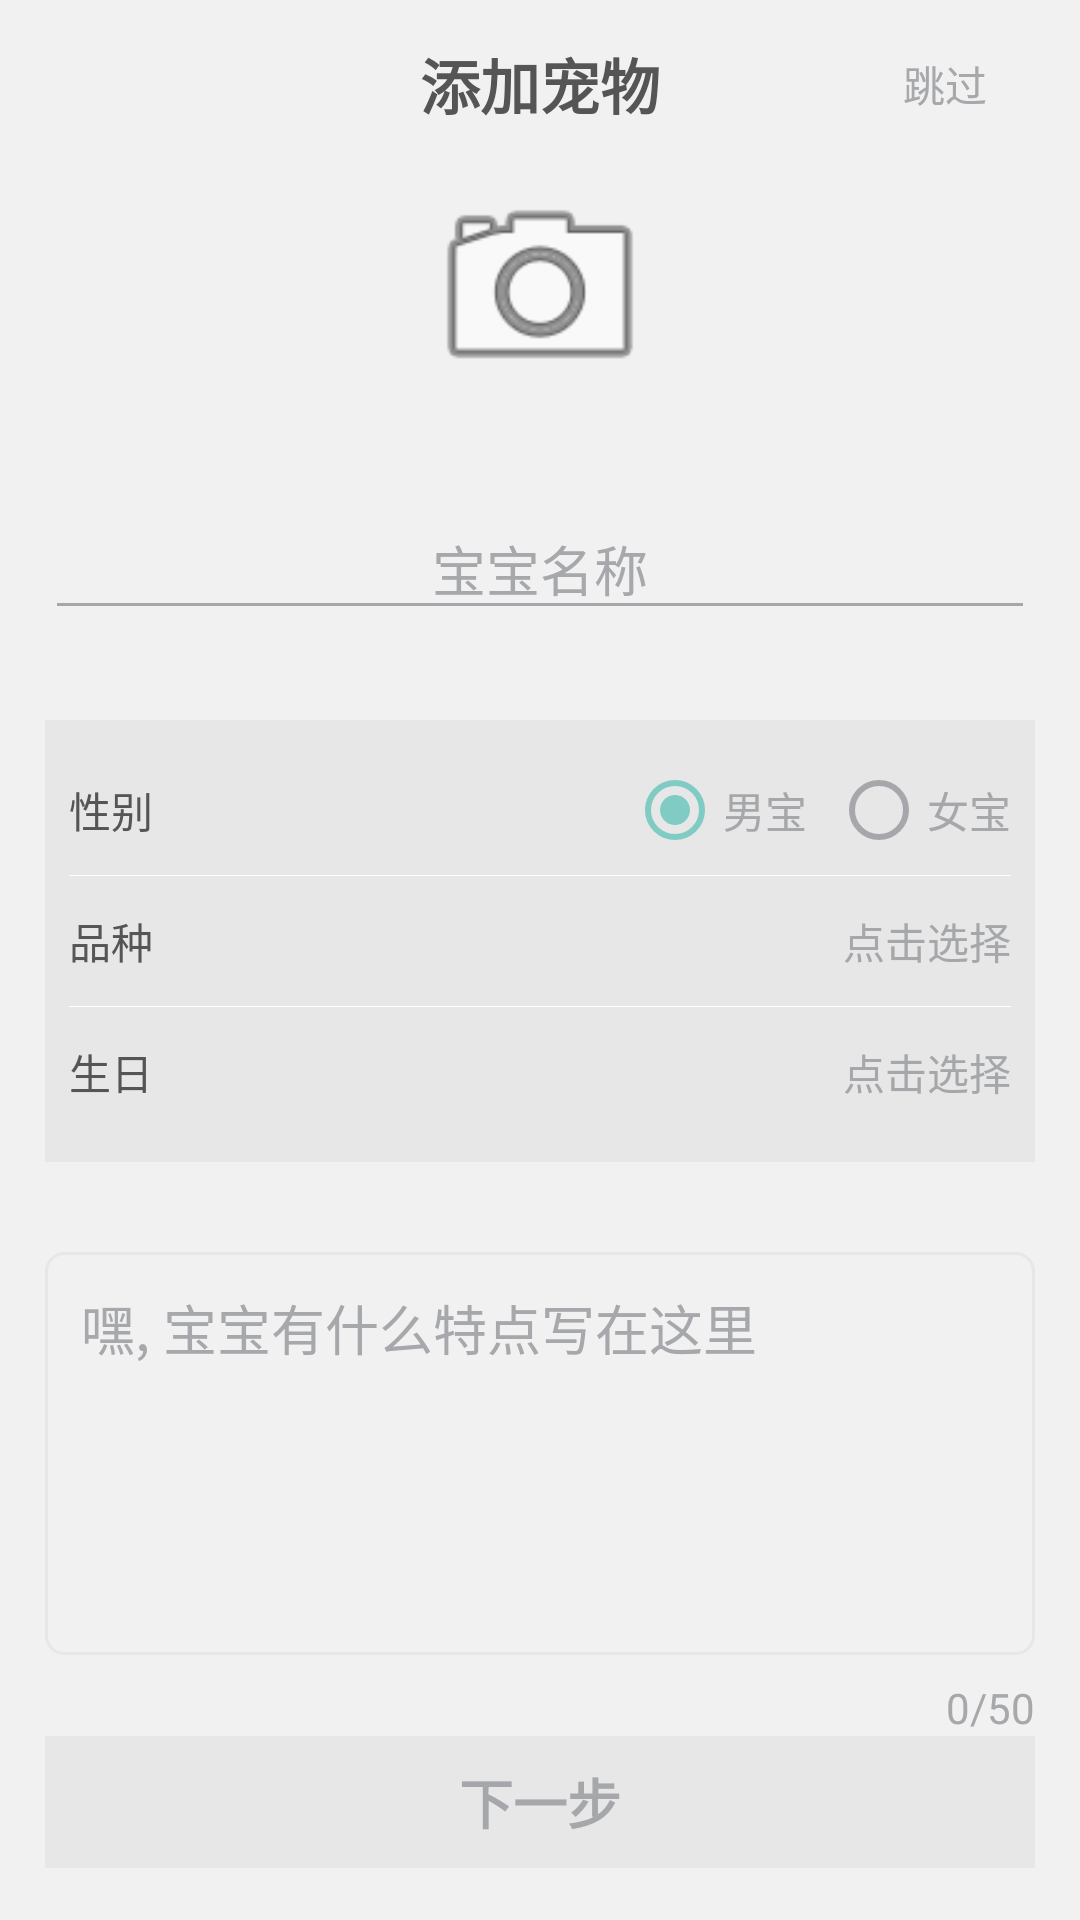

Icon bounding boxes for this 1080×1920 phone screenshot, format bbox=(x1, y1, x2, y2):
camera: bbox=(447, 210, 633, 358)
